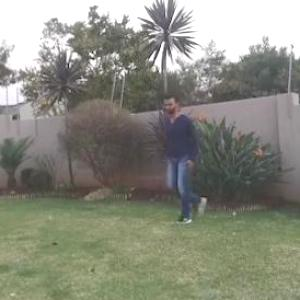follow: (164, 93, 202, 222)
